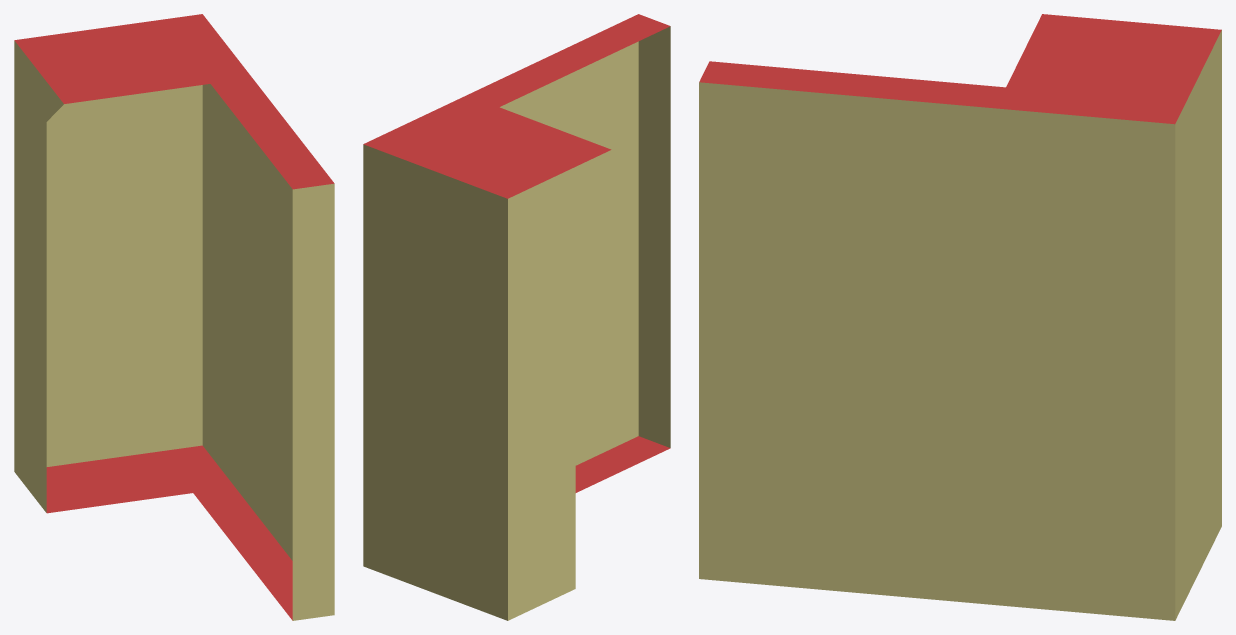
3 renders of one model, left to right at view 1: azimuth 30°, elevation 25°; view 2: azimuth 150°, elevation 25°; view 3: azimuth 270°, elevation 25°, orthographic. The views are drawn at different scales.
Parts seen in each view (by area): view 1: group_4, group_3, group_5; view 2: group_4, group_3, group_5; view 3: group_4, group_3.
Part boxes in pixels (x1=…): group_4: x1=14, y1=41, x2=334, y2=620; group_3: x1=14, y1=14, x2=334, y2=189; group_5: x1=46, y1=445, x2=292, y2=620; group_4: x1=363, y1=26, x2=670, y2=620; group_3: x1=363, y1=14, x2=670, y2=198; group_5: x1=575, y1=436, x2=670, y2=492; group_4: x1=699, y1=30, x2=1221, y2=620; group_3: x1=699, y1=14, x2=1221, y2=124.
Bounding box in the file's own units: 5.05 × 10.12 × 10.61.
